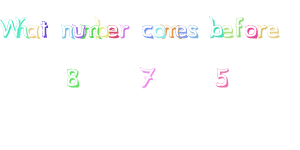5: (215, 66, 230, 89)
7: (137, 64, 156, 88)
8: (65, 67, 81, 88)
W: (1, 16, 19, 38)
a: (25, 23, 41, 40)
b: (208, 14, 223, 39), (96, 17, 108, 39)
c: (140, 23, 155, 40)
e: (174, 23, 188, 39), (106, 22, 119, 39), (221, 23, 234, 39), (267, 23, 280, 39)
f: (234, 15, 244, 39)
h: (14, 15, 29, 40)
m: (81, 23, 99, 40), (162, 23, 179, 40)
n: (59, 23, 74, 39)
o: (243, 23, 258, 40), (153, 24, 166, 40)
r: (118, 22, 131, 39), (256, 22, 267, 38)
s: (187, 23, 199, 39)
t: (39, 18, 50, 39)
u: (71, 21, 85, 39)
